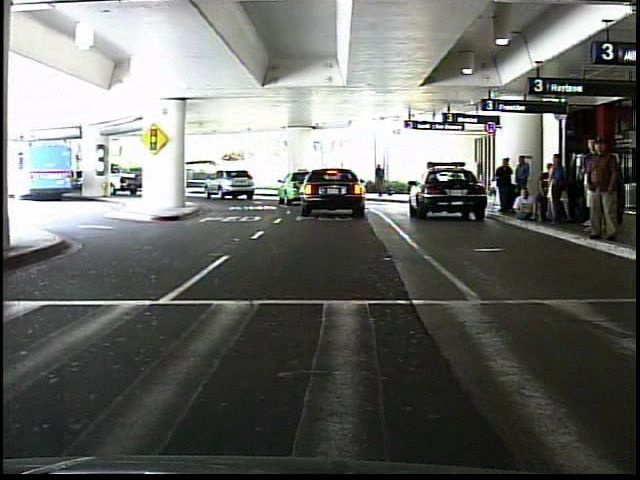person: (584, 134, 623, 245), (492, 157, 515, 214), (512, 153, 535, 194), (373, 163, 388, 199)
